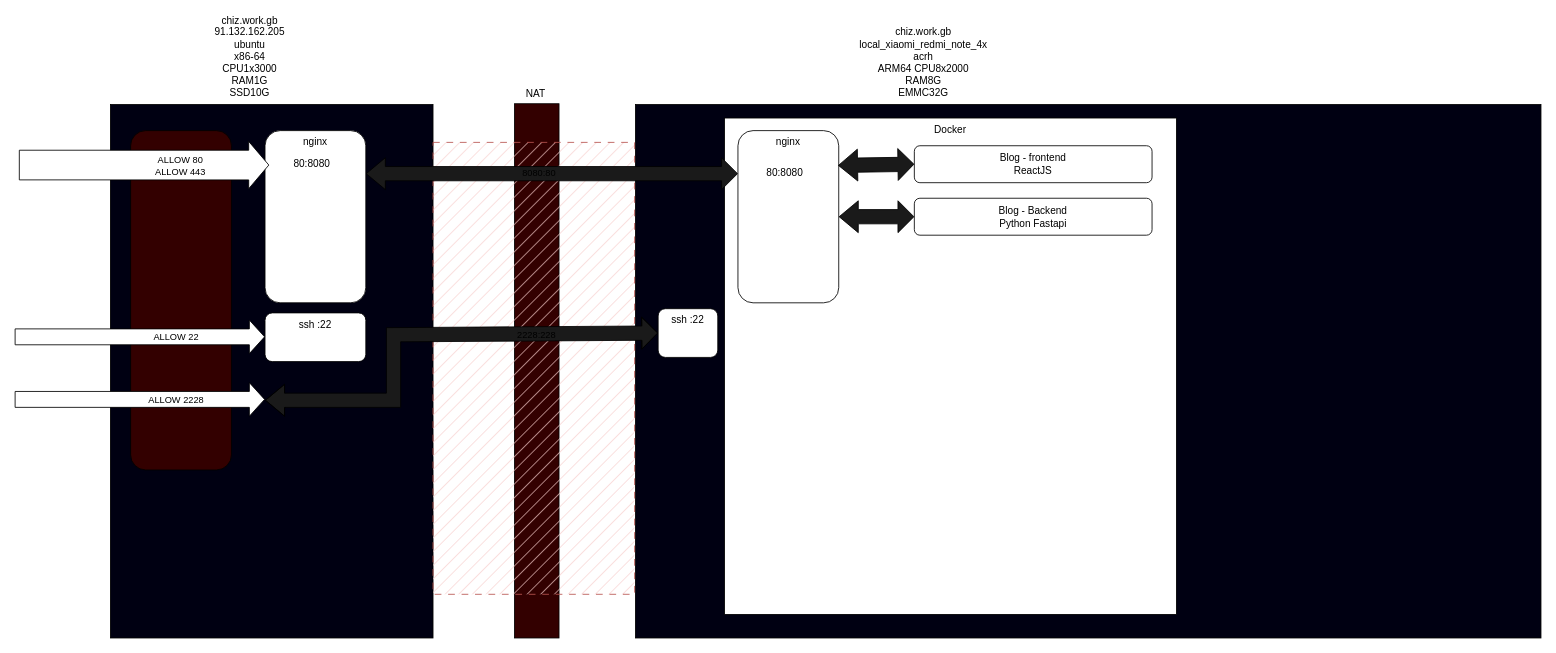
Image size: 1556x653. Some labels were removed from this diagram. Each missing label, with the centre of its shape:
SSH tunel: point 533,368
UFW: point 180,300
